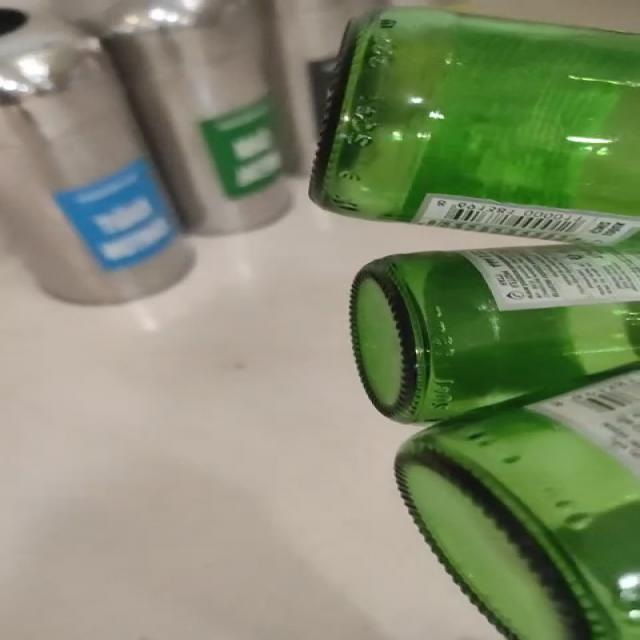glass: (311, 7, 639, 640)
